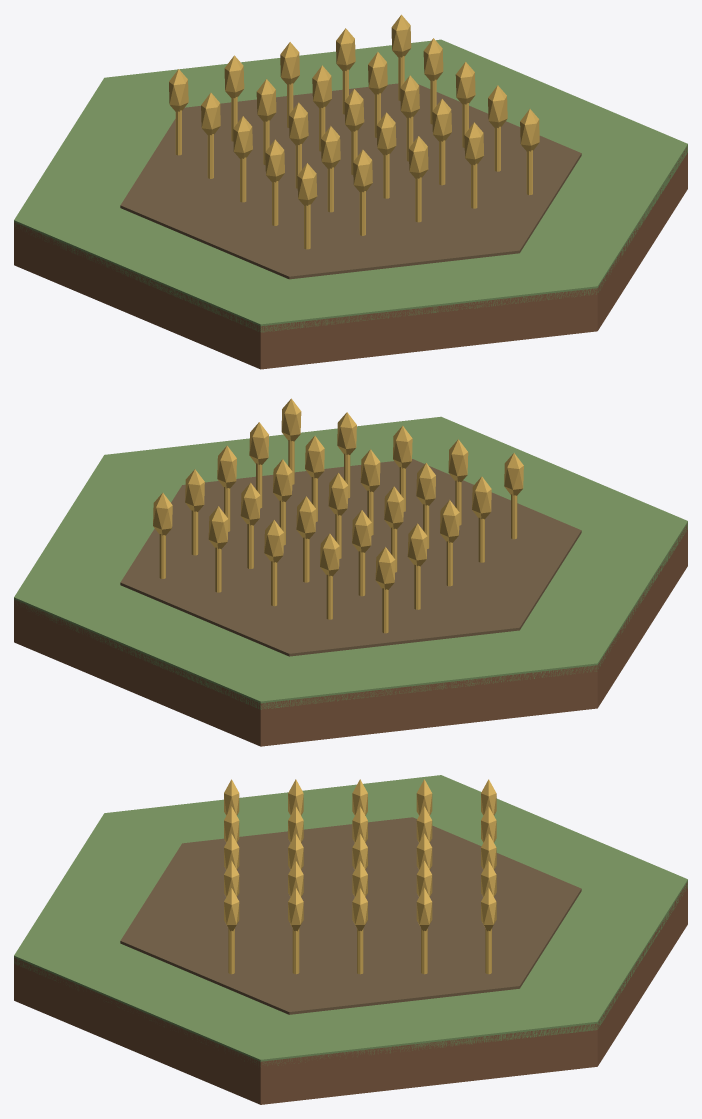
Rendered from barleyField.glb.
3 views of the same model, one above another, from view 1: azimuth 30°, elevation 25°; view 2: azimuth 150°, elevation 25°; view 3: azimuth 270°, elevation 25° (orthographic).
Parts seen in each view (by area): view 1: Cone.182, Cone.183, Cone.181, Icosphere.144, Icosphere.146, Icosphere.128, Icosphere.143, Icosphere.131, Icosphere.140, Icosphere.127, Icosphere.129, Icosphere.132 (+16 smaller); view 2: Cone.182, Cone.183, Cone.181, Icosphere.126, Icosphere.134, Icosphere.127, Icosphere.135, Icosphere.141, Icosphere.149, Icosphere.133, Icosphere.140, Icosphere.142 (+16 smaller); view 3: Cone.182, Cone.183, Cone.181, Icosphere.149, Icosphere.150, Icosphere.147, Icosphere.146, Icosphere.148.
Boxes of the visible parts, <box> form: Cone.182: <box>14,39,687,332</box>; Cone.183: <box>120,83,581,279</box>; Cone.181: <box>14,147,687,369</box>; Icosphere.144: <box>368,52,387,94</box>; Icosphere.146: <box>520,109,539,151</box>; Icosphere.128: <box>233,116,252,158</box>; Icosphere.143: <box>400,75,419,118</box>; Icosphere.131: <box>353,149,372,192</box>; Icosphere.140: <box>280,42,299,84</box>; Icosphere.127: <box>265,139,284,182</box>; Icosphere.129: <box>201,92,220,135</box>; Icosphere.132: <box>321,126,340,168</box>; Cone.182: <box>14,416,687,709</box>; Cone.183: <box>120,459,581,656</box>; Cone.181: <box>14,523,687,746</box>; Icosphere.126: <box>504,453,523,495</box>; Icosphere.134: <box>352,510,371,552</box>; Icosphere.127: <box>472,476,491,519</box>; Icosphere.135: <box>320,533,339,576</box>; Icosphere.141: <box>337,412,356,454</box>; Icosphere.149: <box>185,469,204,511</box>; Icosphere.133: <box>384,486,403,529</box>; Icosphere.140: <box>264,520,283,562</box>; Icosphere.142: <box>305,436,324,478</box>; Cone.182: <box>14,775,687,1066</box>; Cone.183: <box>120,817,581,1014</box>; Cone.181: <box>14,882,687,1104</box>; Icosphere.149: <box>416,888,432,930</box>; Icosphere.150: <box>481,888,496,931</box>; Icosphere.147: <box>288,888,303,931</box>; Icosphere.146: <box>224,888,239,931</box>; Icosphere.148: <box>352,888,367,930</box>.
Size of the model in its own units: 3.67 by 0.8 by 3.67.
